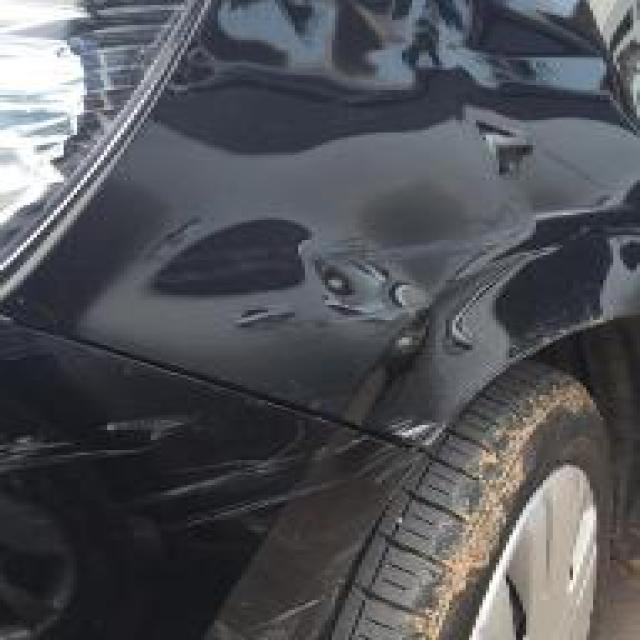Bumper: (10, 372, 412, 640)
Fender: (141, 0, 640, 390)
